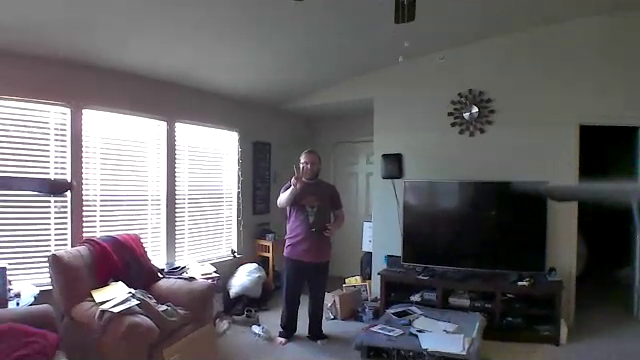peace: (286, 159, 310, 197)
